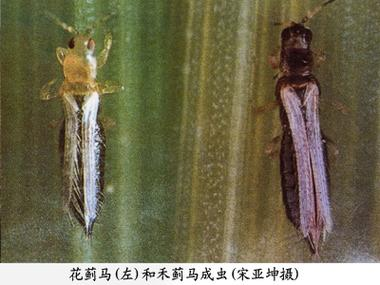Thripidae: (250, 1, 343, 260), (37, 8, 124, 235)
